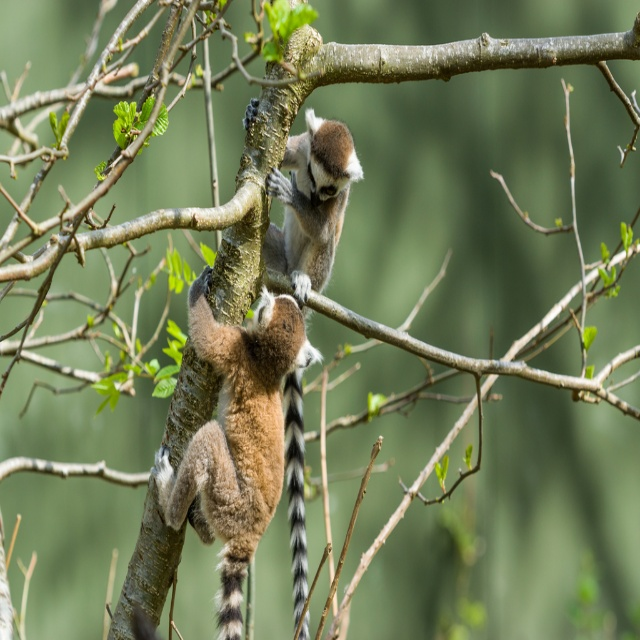Monkey: (140, 273, 320, 606)
